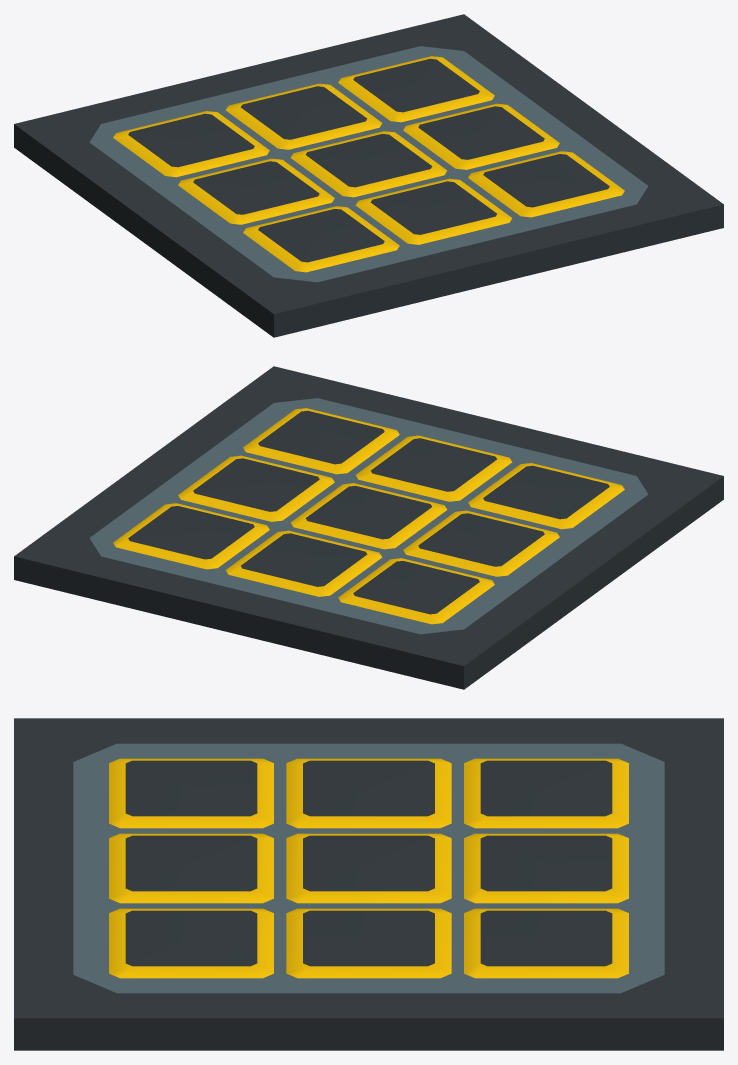
File: Platform_012.fbx
3 renders of one model, top to bottom at view 1: azimuth 30°, elevation 25°; view 2: azimuth 150°, elevation 25°; view 3: azimuth 270°, elevation 25°, orthographic. The views are drawn at different scales.
Parts seen in each view (by area): view 1: Platform_012; view 2: Platform_012; view 3: Platform_012.
Part boxes in pixels (x1=…): Platform_012: x1=14, y1=14, x2=723, y2=337; Platform_012: x1=14, y1=366, x2=723, y2=689; Platform_012: x1=14, y1=718, x2=723, y2=1050.
Bounding box in the file's own units: 400 × 400 × 26.18.
